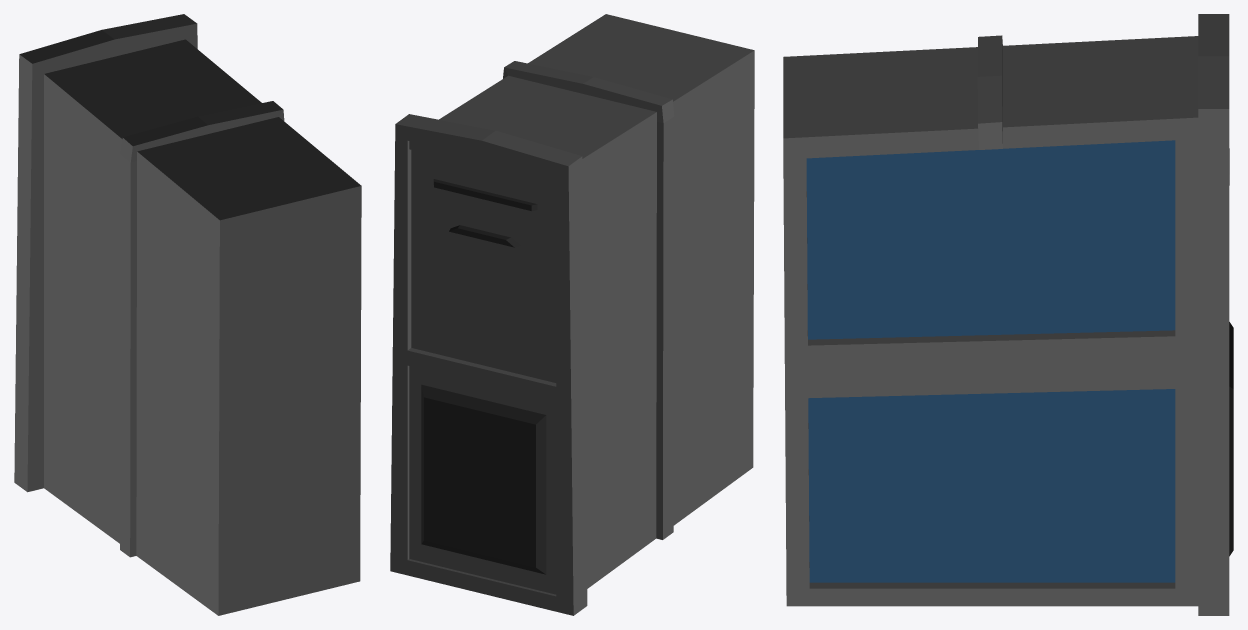
Rendered from Computer Case 5.fbx.
The picture shows the model from 3 angles, left to right: view 1: azimuth 30°, elevation 25°; view 2: azimuth 150°, elevation 25°; view 3: azimuth 270°, elevation 25°; orthographic projection. The views are drawn at different scales.
Parts seen in each view (by area): view 1: Node 0; view 2: Node 0; view 3: Node 0.
Boxes of the visible parts, x1=… form: Node 0: x1=14, y1=14, x2=361, y2=615; Node 0: x1=390, y1=14, x2=754, y2=615; Node 0: x1=783, y1=14, x2=1233, y2=615.
Size of the model in its own units: 0.3996 by 0.4984 by 0.2111.
